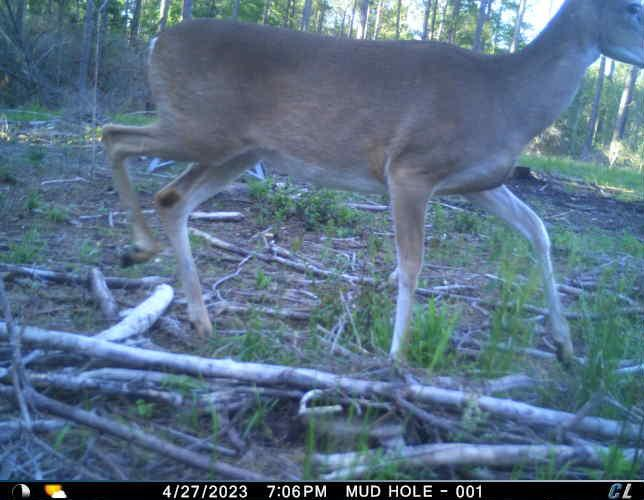Deer: (88, 0, 644, 379)
